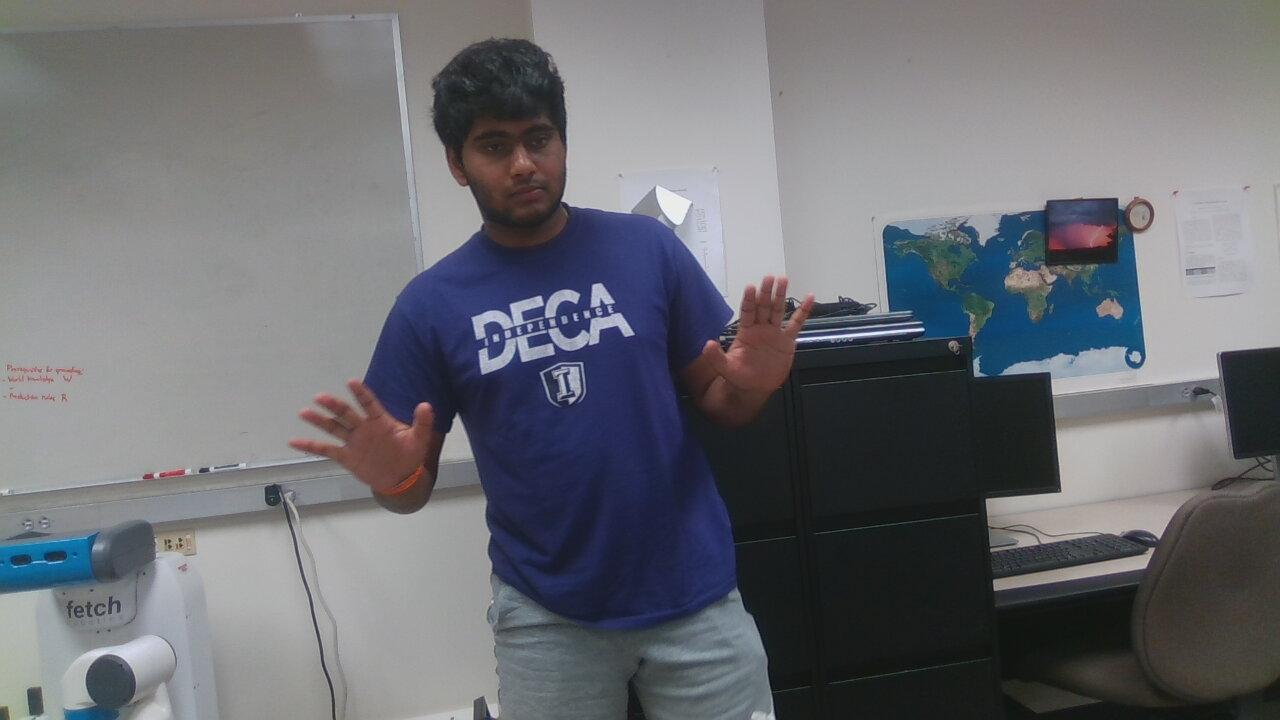hands: (291, 377, 442, 508), (696, 274, 837, 411)
